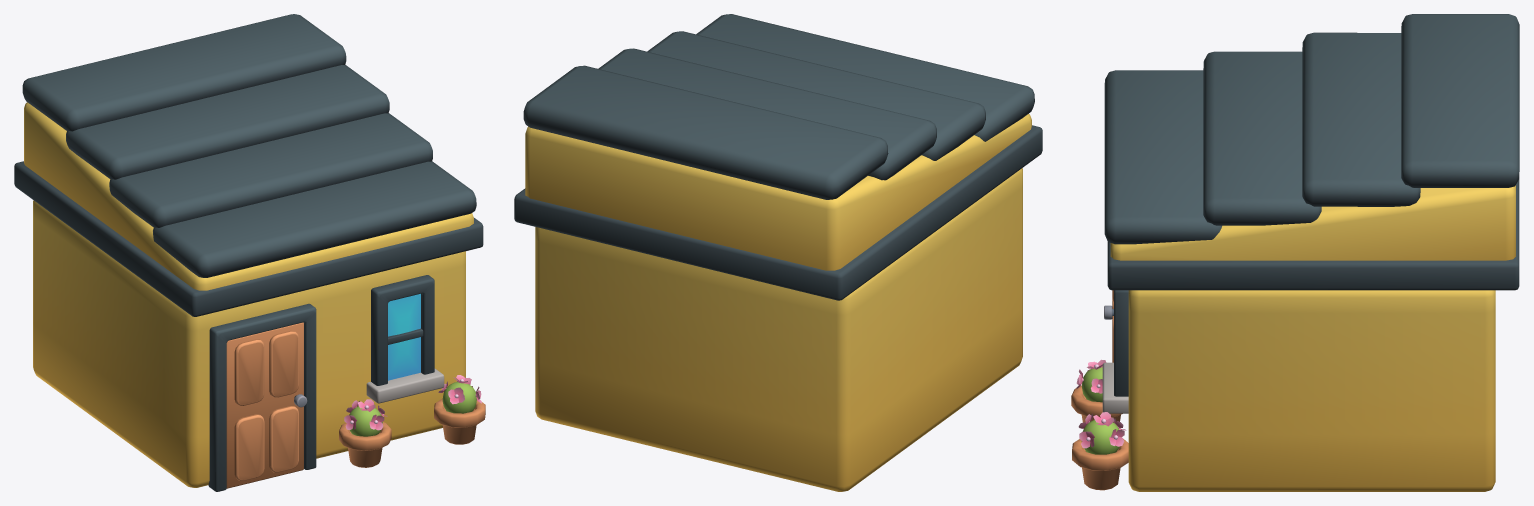
Rendered from mct_build_full_house01.fbx.
3 renders of one model, left to right at view 1: azimuth 30°, elevation 25°; view 2: azimuth 150°, elevation 25°; view 3: azimuth 270°, elevation 25°, orthographic. The views are drawn at different scales.
Parts seen in each view (by area): view 1: mct_build_full_house_01, mct_door.001; view 2: mct_build_full_house_01; view 3: mct_build_full_house_01.
Part boxes in pixels (left/top/right/bottom): mct_build_full_house_01: left=14, top=14, right=485, bottom=491; mct_door.001: left=226, top=322, right=307, bottom=488; mct_build_full_house_01: left=514, top=14, right=1042, bottom=491; mct_build_full_house_01: left=1071, top=14, right=1519, bottom=491.
Size of the model in its own units: 417 by 398 by 488.
